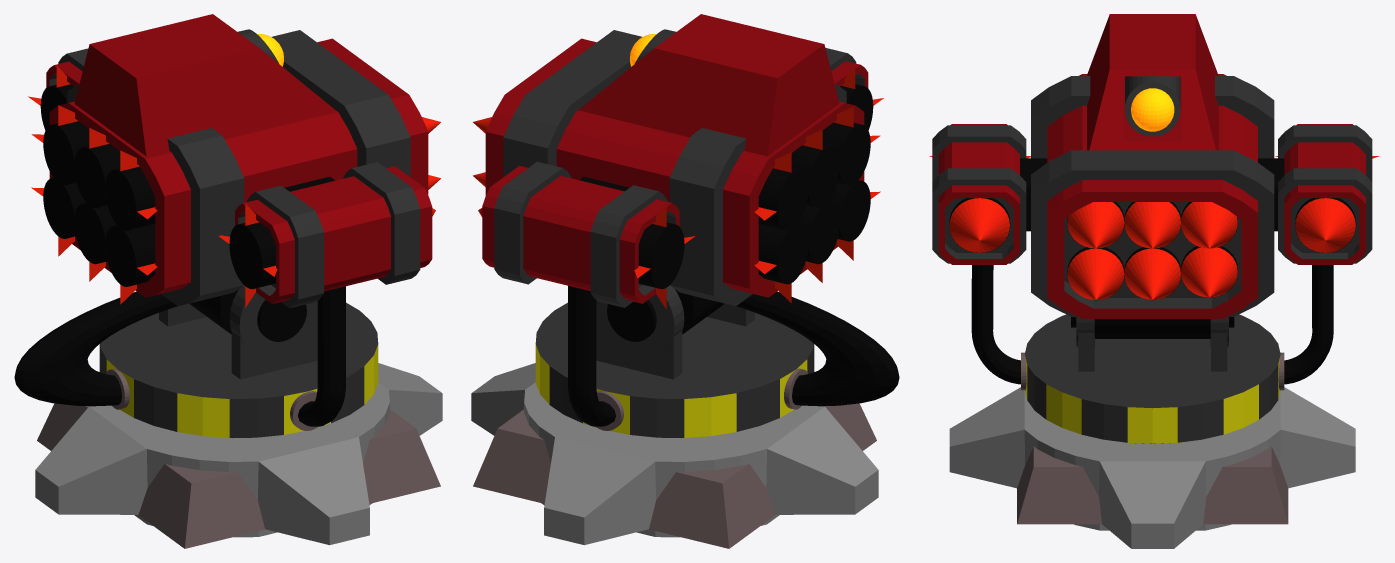
File: WeaponRocketLauncherM2.fbx
3 renders of one model, left to right at view 1: azimuth 30°, elevation 25°; view 2: azimuth 150°, elevation 25°; view 3: azimuth 270°, elevation 25°, orthographic. The views are drawn at different scales.
Visible parts, largest first — view 1: Cylinder.001, Cylinder; view 2: Cylinder.001, Cylinder; view 3: Cylinder.001, Cylinder.
Part boxes in pixels (<box>): Cylinder.001: <box>14,14,440,437</box>; Cylinder: <box>35,363,442,548</box>; Cylinder.001: <box>473,14,899,437</box>; Cylinder: <box>471,363,878,548</box>; Cylinder.001: <box>929,14,1379,443</box>; Cylinder: <box>949,387,1355,548</box>.
Size of the model in its own units: 801 by 815 by 823.
